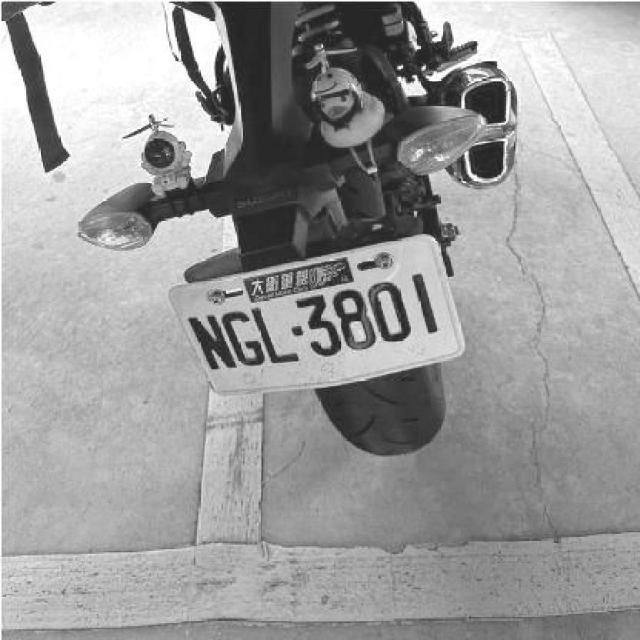-: (289, 322, 305, 338)
0: (363, 277, 415, 343)
1: (407, 270, 439, 337)
3: (293, 292, 343, 359)
8: (327, 285, 376, 354)
G: (215, 304, 266, 367)
L: (248, 302, 302, 365)
N: (185, 310, 236, 370)
